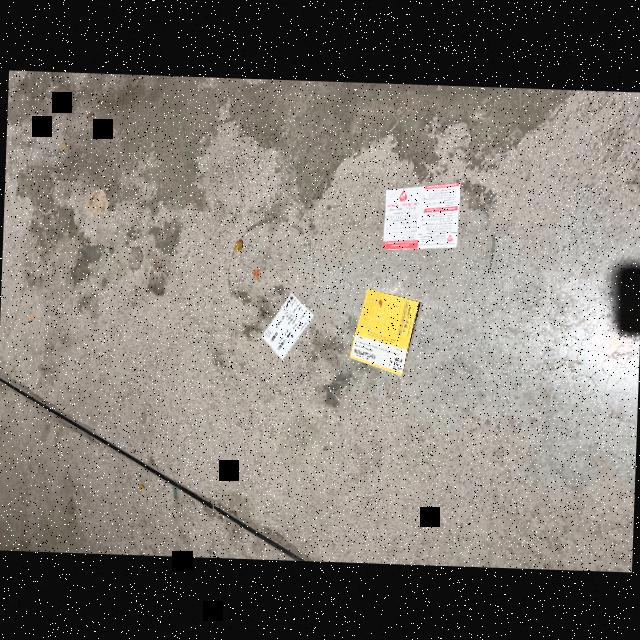scrap_paper: (367, 169, 470, 264), (340, 273, 428, 377), (252, 288, 320, 367)
